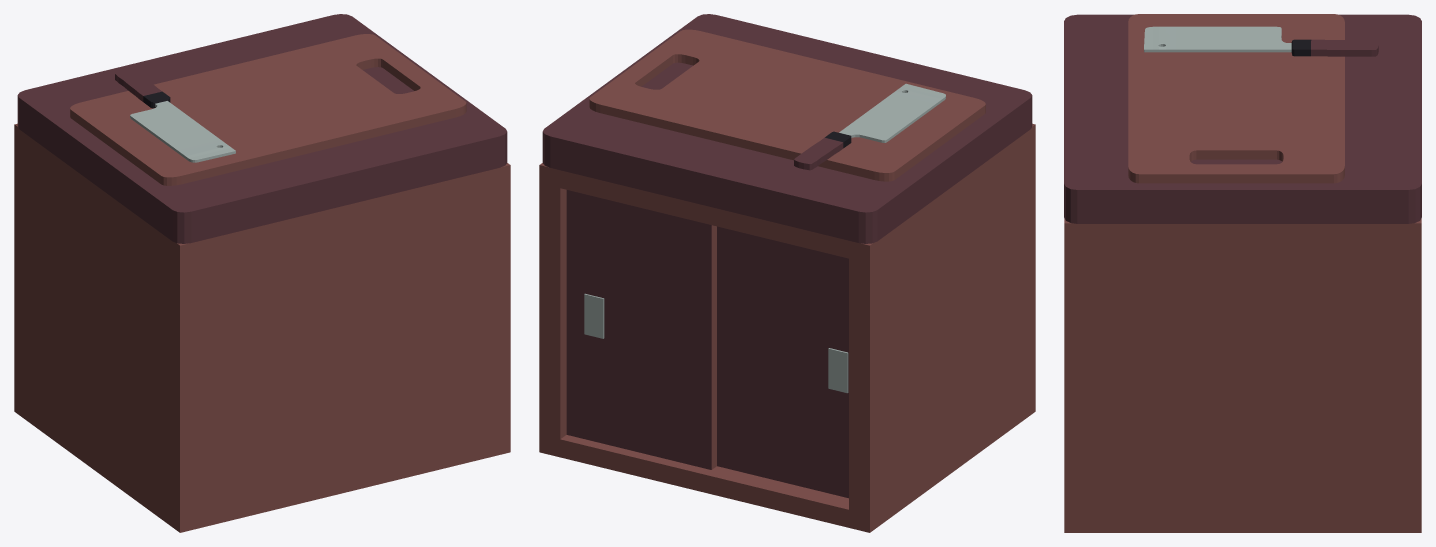
File: BancadaCortar 1.fbx
3 views of the same model, side by side, from view 1: azimuth 30°, elevation 25°; view 2: azimuth 150°, elevation 25°; view 3: azimuth 270°, elevation 25° (orthographic). The views are drawn at different scales.
Parts seen in each view (by area): view 1: Cube.014, Cube.027, Cube.028; view 2: Cube.014, Cube.027, Cube.028; view 3: Cube.014, Cube.027, Cube.028.
Part boxes in pixels (x1=…): Cube.014: x1=14, y1=14, x2=510, y2=532; Cube.027: x1=70, y1=34, x2=466, y2=185; Cube.028: x1=115, y1=69, x2=235, y2=162; Cube.014: x1=539, y1=14, x2=1035, y2=532; Cube.027: x1=589, y1=29, x2=985, y2=181; Cube.028: x1=794, y1=83, x2=945, y2=170; Cube.014: x1=1064, y1=14, x2=1421, y2=532; Cube.027: x1=1128, y1=14, x2=1344, y2=183; Cube.028: x1=1144, y1=26, x2=1378, y2=56.
Size of the model in its own units: 1.75 by 1.68 by 1.51.
